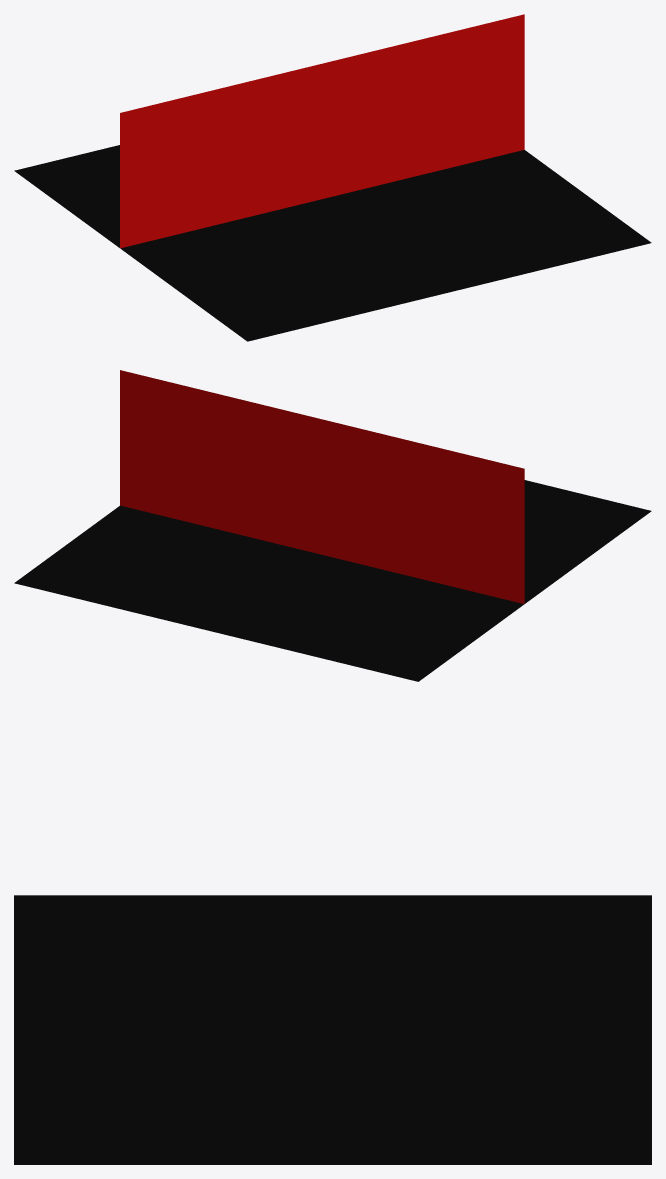
The model's file is invisible wall test 1.fbx.
The picture shows the model from 3 angles, top to bottom: view 1: azimuth 30°, elevation 25°; view 2: azimuth 150°, elevation 25°; view 3: azimuth 270°, elevation 25°; orthographic projection. The views are drawn at different scales.
Visible parts, largest first — view 1: Plane; view 2: Plane; view 3: Plane.
Part boxes in pixels (x1,y1,x2,y2): Plane: (14,14,651,341); Plane: (14,370,651,681); Plane: (14,895,651,1164).
Bounding box in the file's own units: 20 × 6.4 × 20.
